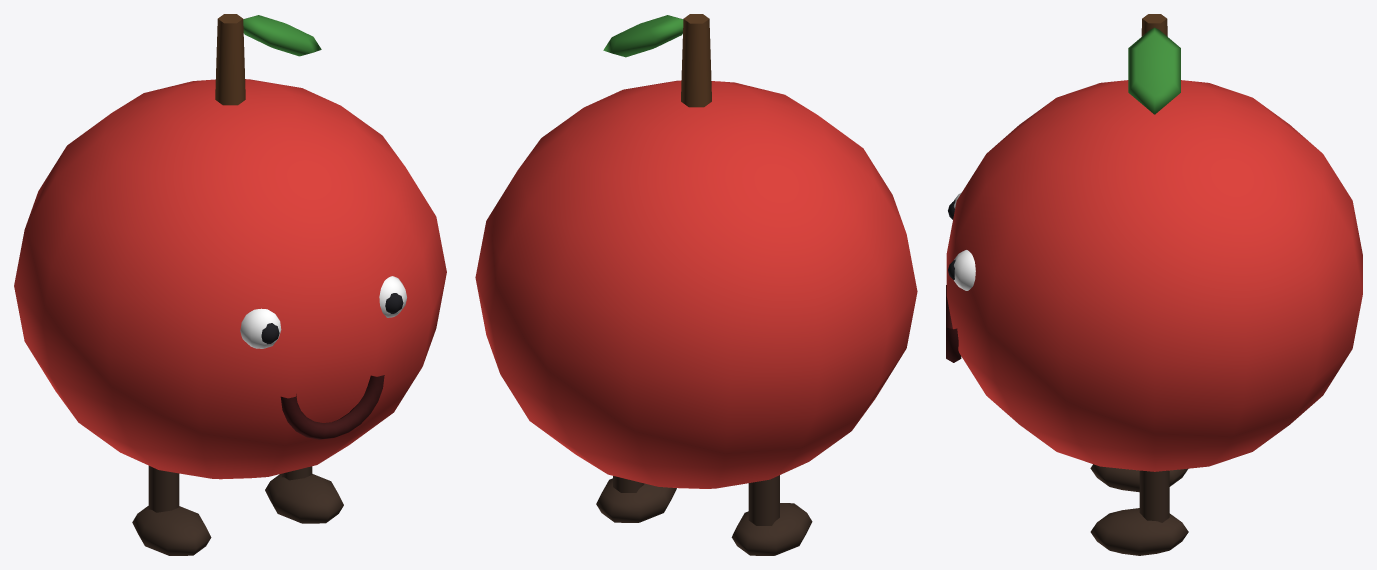
The picture shows the model from 3 angles, left to right: view 1: azimuth 30°, elevation 25°; view 2: azimuth 150°, elevation 25°; view 3: azimuth 270°, elevation 25°; orthographic projection. The views are drawn at different scales.
Bounding box in the file's own units: 1.7 × 2.2 × 1.66.
